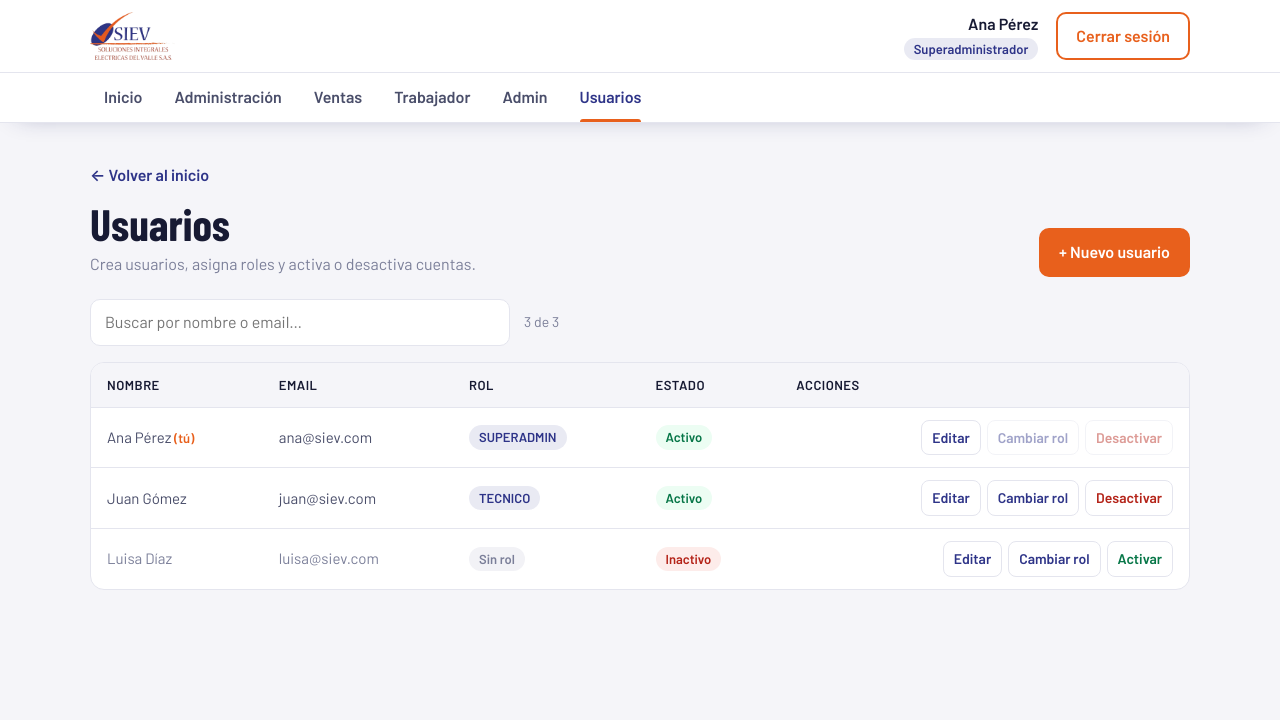
Test: gestión de usuarios › al crear con un email repetido muestra el mensaje del backend
Expected: the text "juan@siev.com" is shown, [263,468,453,529]
Click the button "+ Nuevo usuario" at [1114, 252], box [1039,228,1190,277]
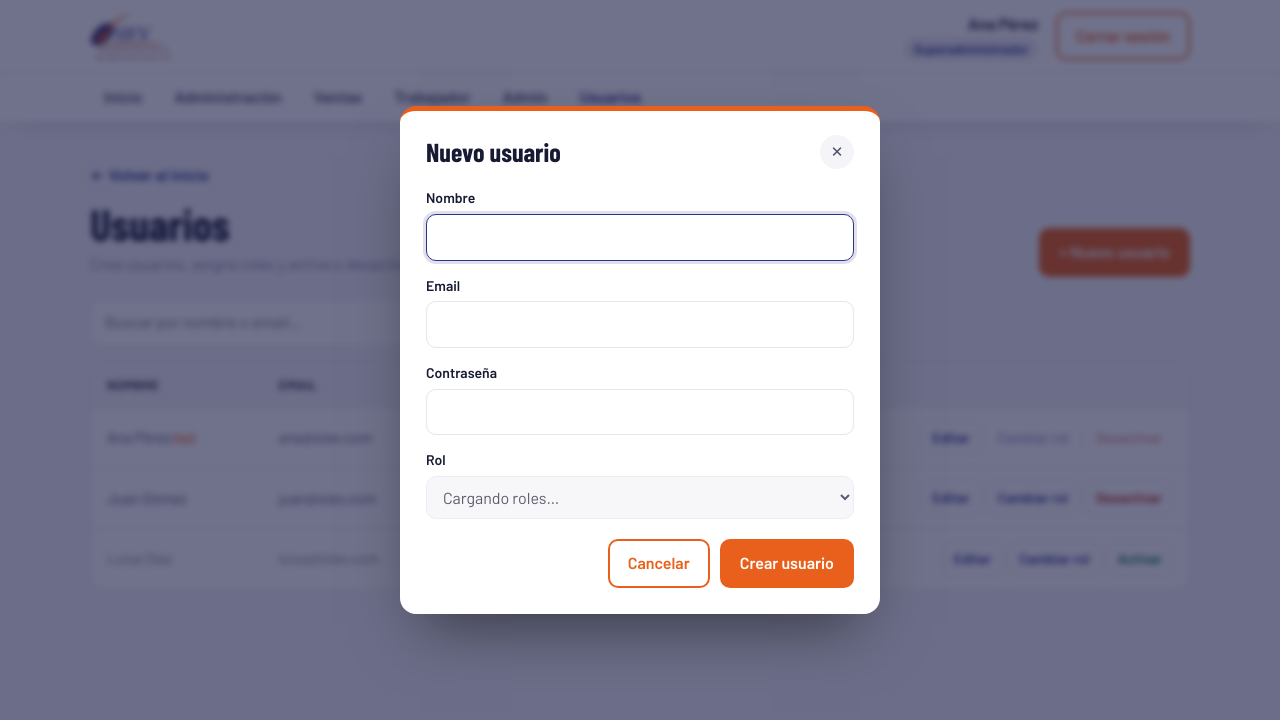
Type "Otro" into the field labelled "Nombre" at [640, 237], box [426,214,854,260]
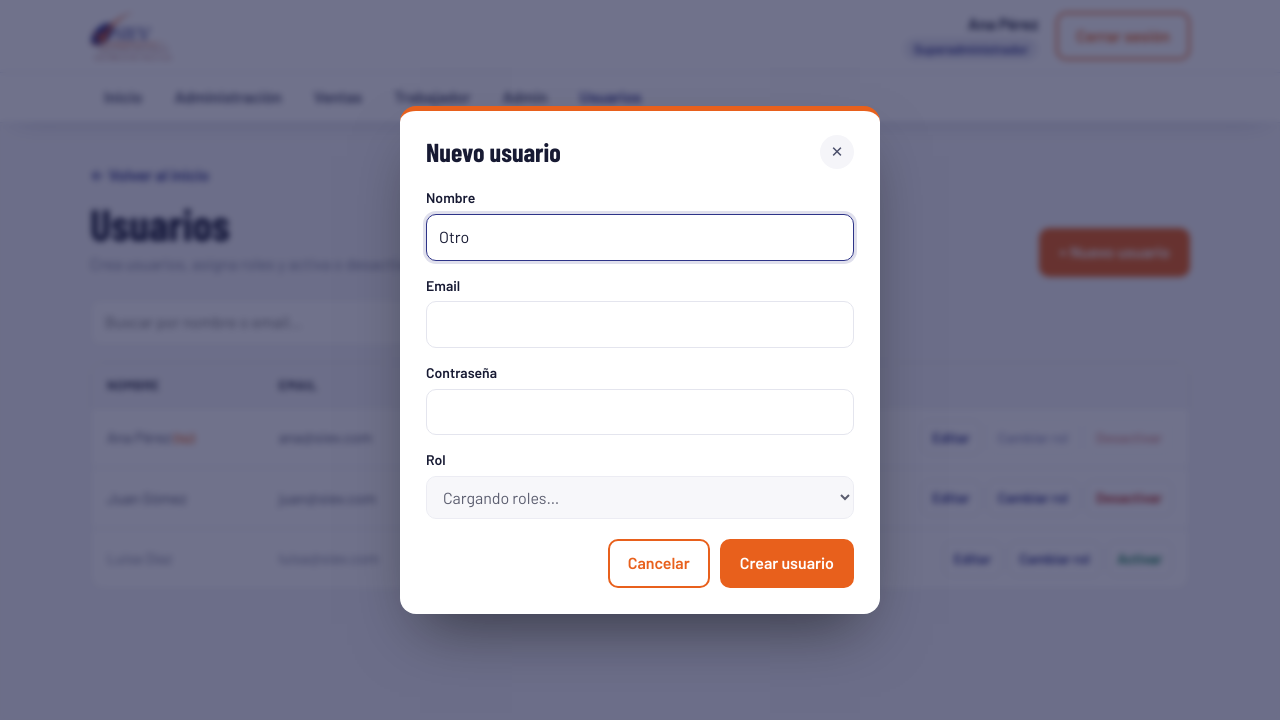
Type "juan@siev.com" into the field labelled "Email" at [640, 325], box [426,301,854,348]
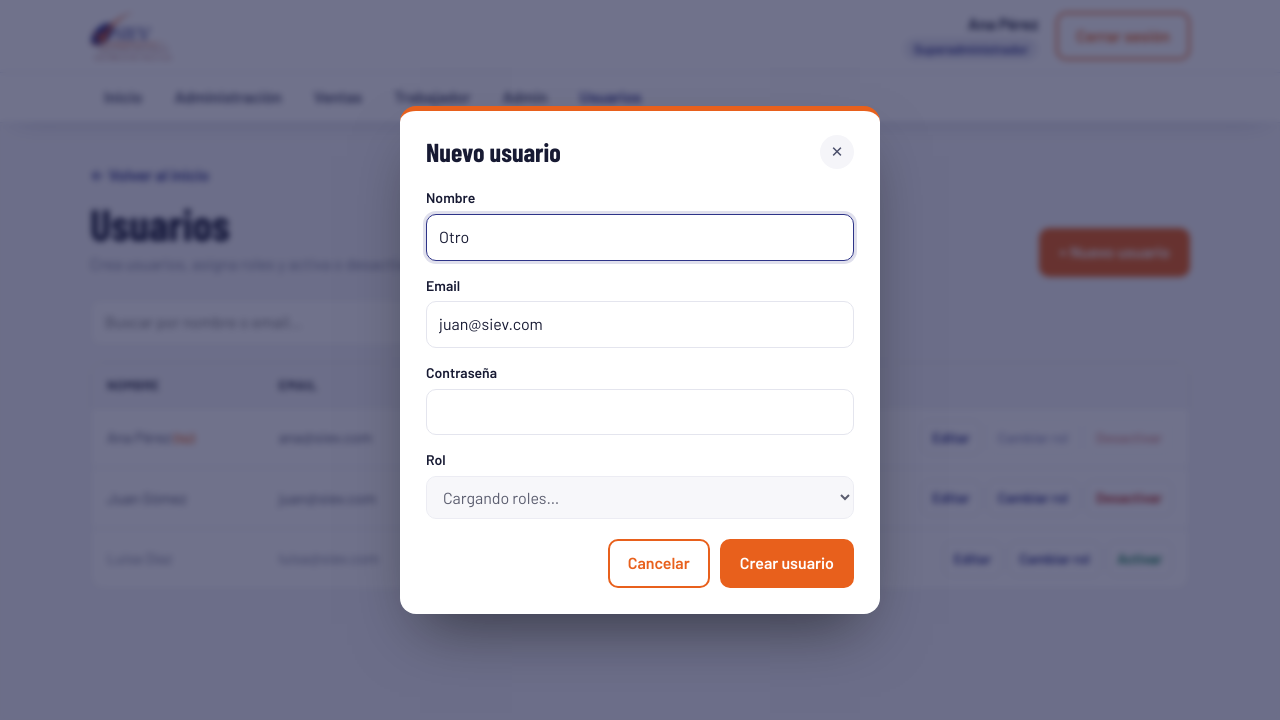
Type "secreto123" into the password field labelled "Contraseña" at [640, 412], box [426,389,854,436]
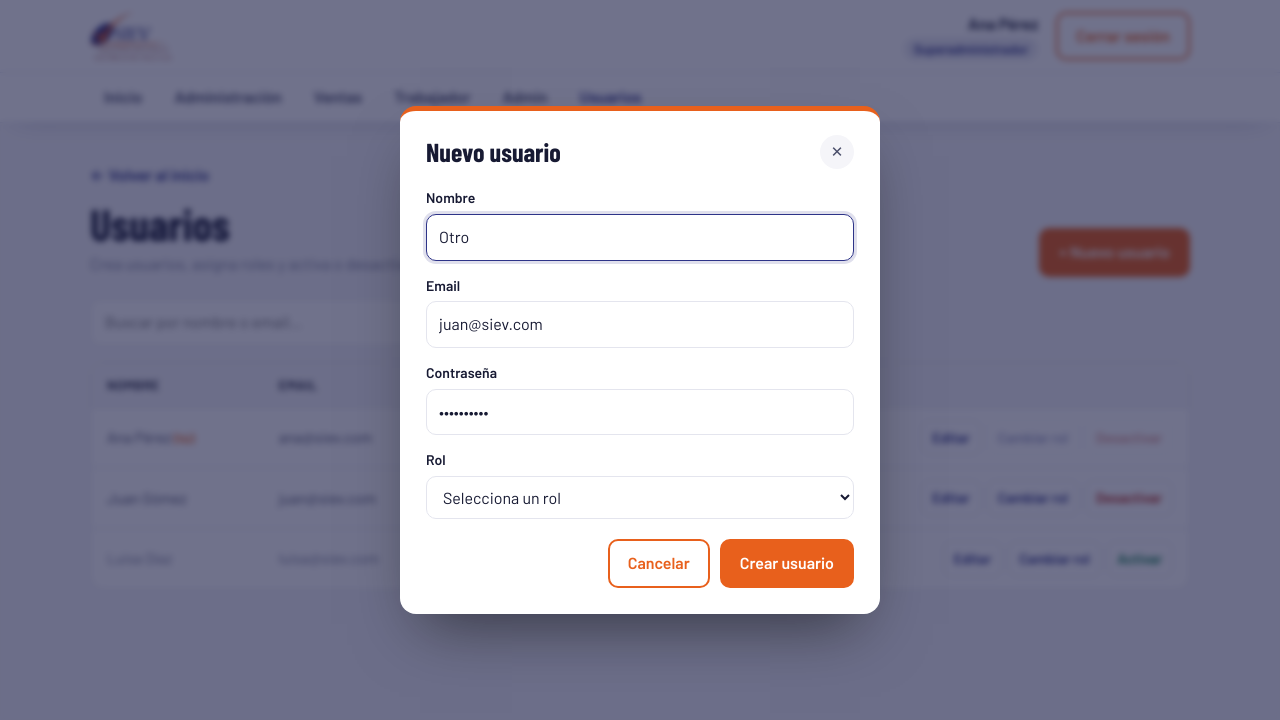
Select "TECNICO — Consulta proyectos" in the dropdown labelled "Rol" at [640, 498], box [426,476,854,519]
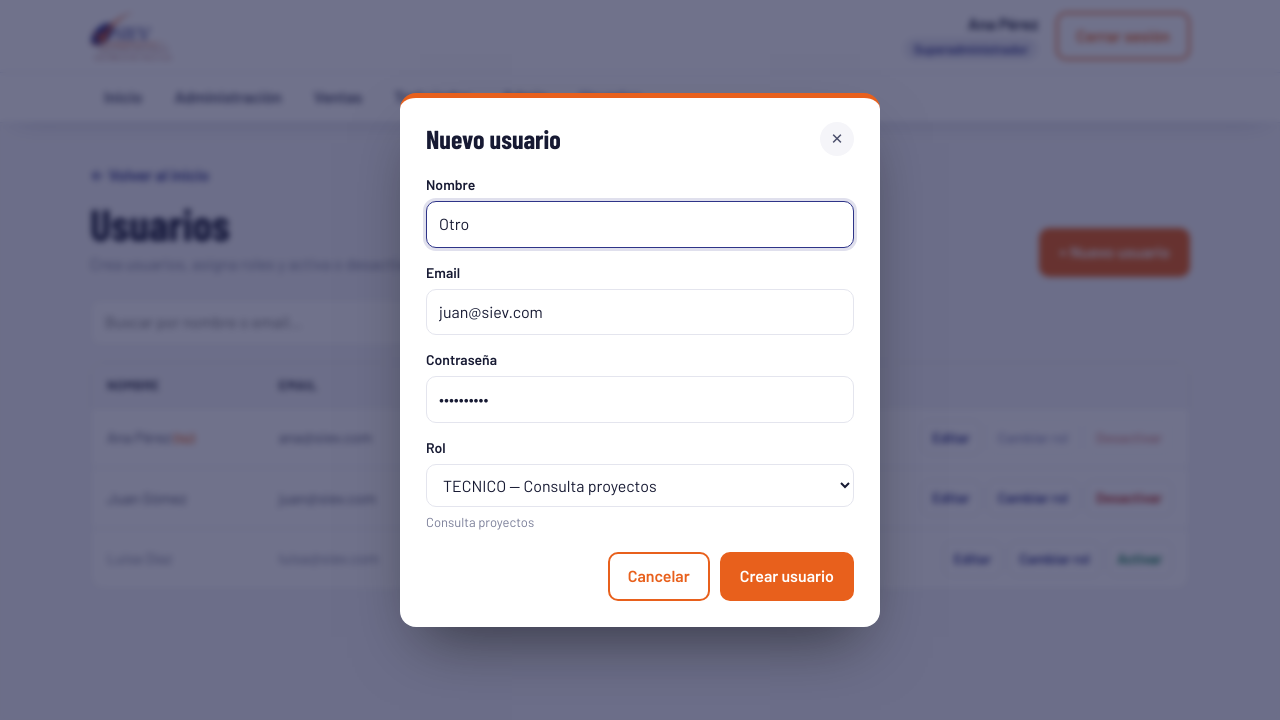
Click the button "Crear usuario" at [787, 576], box [720,552,854,600]
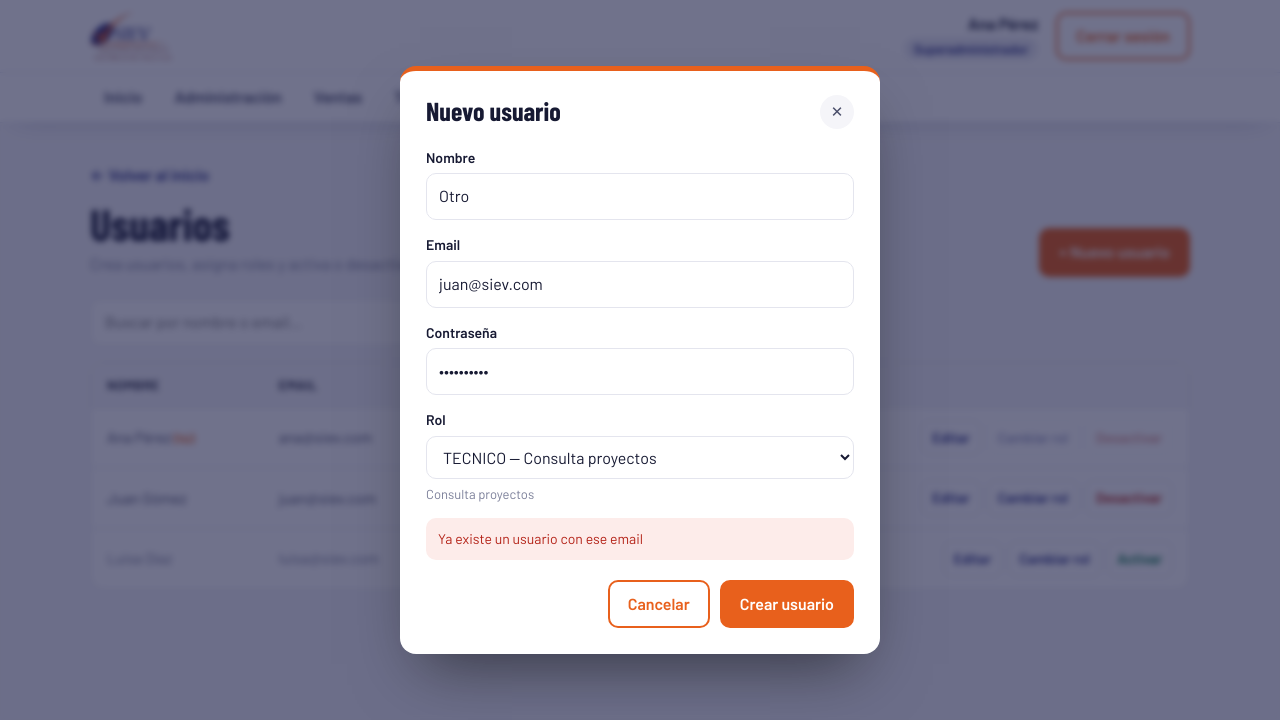
Expected: the message reads "Ya existe un usuario con ese email", [438,530,643,547]
